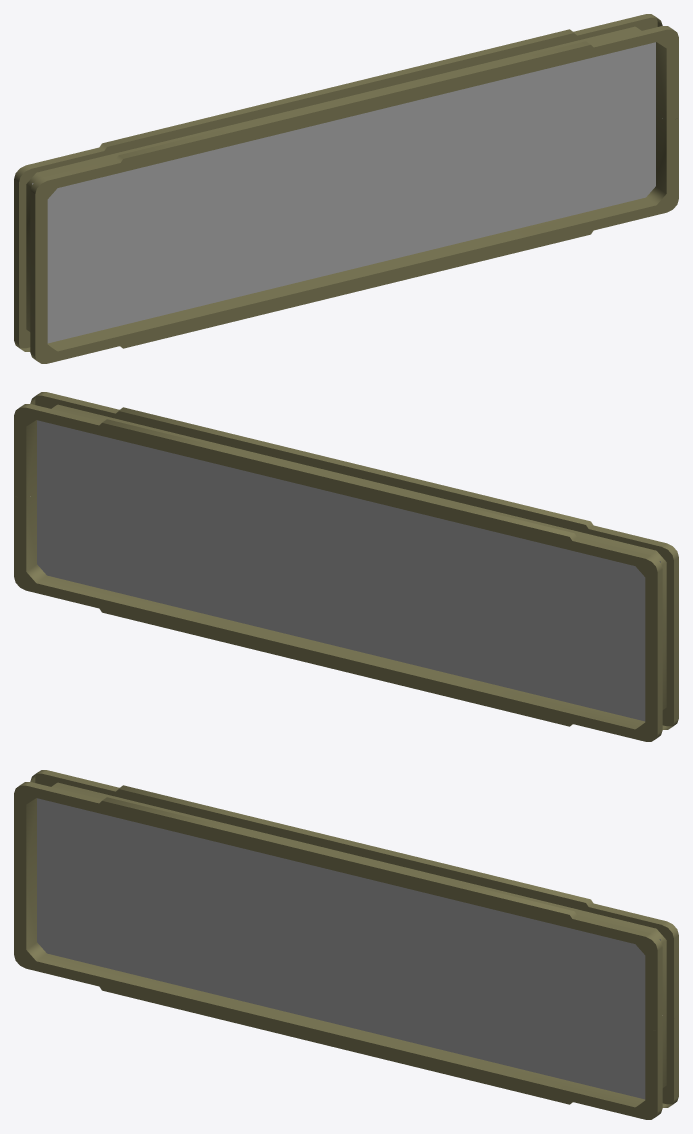
File: Window_angar.fbx
3 renders of one model, top to bottom at view 1: azimuth 30°, elevation 25°; view 2: azimuth 150°, elevation 25°; view 3: azimuth 330°, elevation 25°, orthographic.
Visible parts, largest first — view 1: Glass_angar, Window_frame; view 2: Glass_angar, Window_frame; view 3: Glass_angar, Window_frame.
Boxes of the visible parts, x1=… form: Glass_angar: x1=32, y1=42, x2=655, y2=343; Window_frame: x1=14, y1=14, x2=678, y2=363; Glass_angar: x1=37, y1=420, x2=660, y2=721; Window_frame: x1=14, y1=392, x2=678, y2=741; Glass_angar: x1=37, y1=798, x2=660, y2=1099; Window_frame: x1=14, y1=770, x2=678, y2=1119.
Bounding box in the file's own units: 1832 × 516 × 104.
